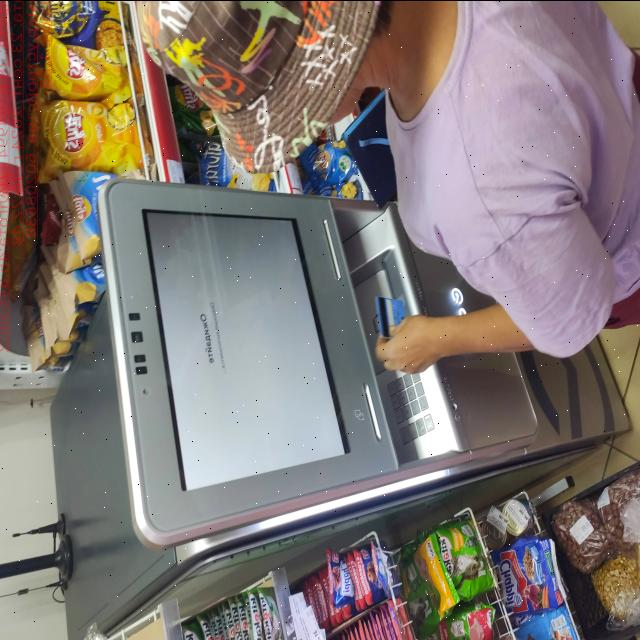bank: (49, 177, 633, 640)
